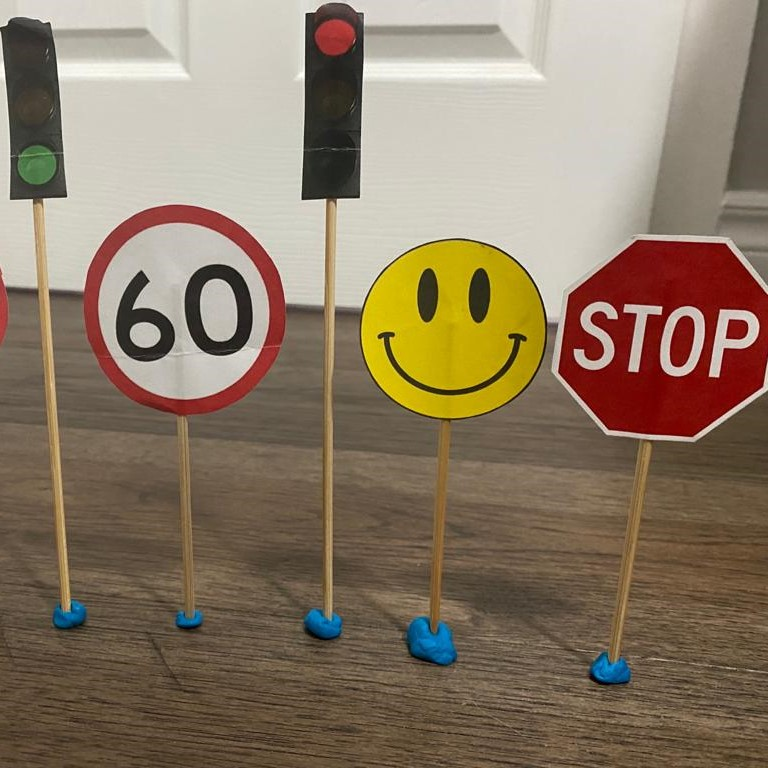Green Traffic Light: (1, 16, 71, 200)
Person: (358, 238, 546, 423)
Red Traffic Light: (299, 1, 367, 204)
Speed Limit 60: (82, 203, 287, 415)
Stop Sign: (550, 230, 767, 441)
